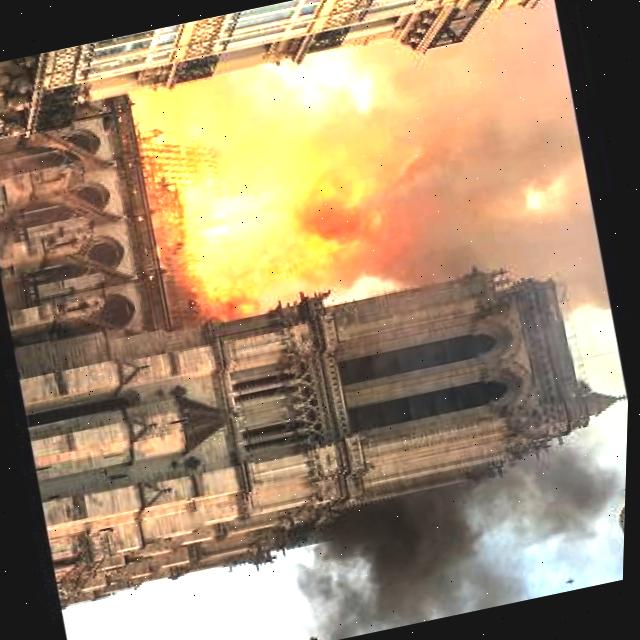Fire: (118, 54, 418, 336)
Smoke: (365, 12, 623, 346), (288, 419, 630, 640)
